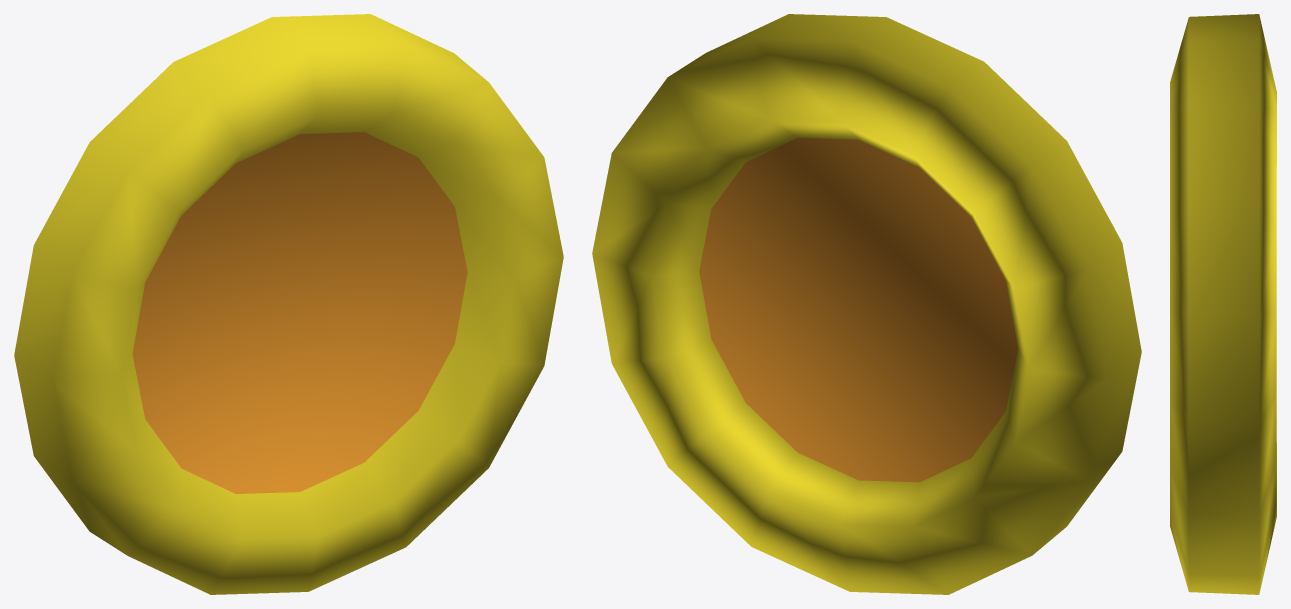
File: Coin.fbx
The picture shows the model from 3 angles, left to right: view 1: azimuth 30°, elevation 25°; view 2: azimuth 150°, elevation 25°; view 3: azimuth 270°, elevation 25°; orthographic projection. The views are drawn at different scales.
Parts seen in each view (by area): view 1: Cylinder.001; view 2: Cylinder.001; view 3: Cylinder.001.
Part boxes in pixels (<box>): Cylinder.001: <box>14,14,563,594</box>; Cylinder.001: <box>592,14,1141,594</box>; Cylinder.001: <box>1170,14,1276,594</box>.
Size of the model in its own units: 192 by 196 by 35.86.
